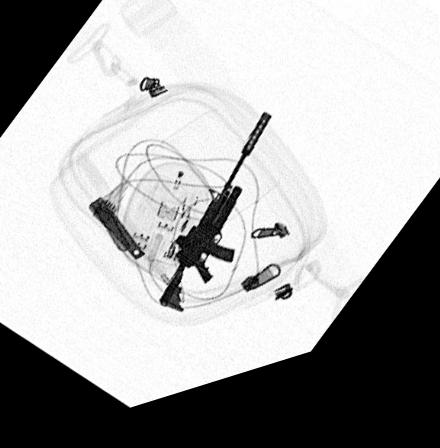Gun: (154, 124, 273, 323)
